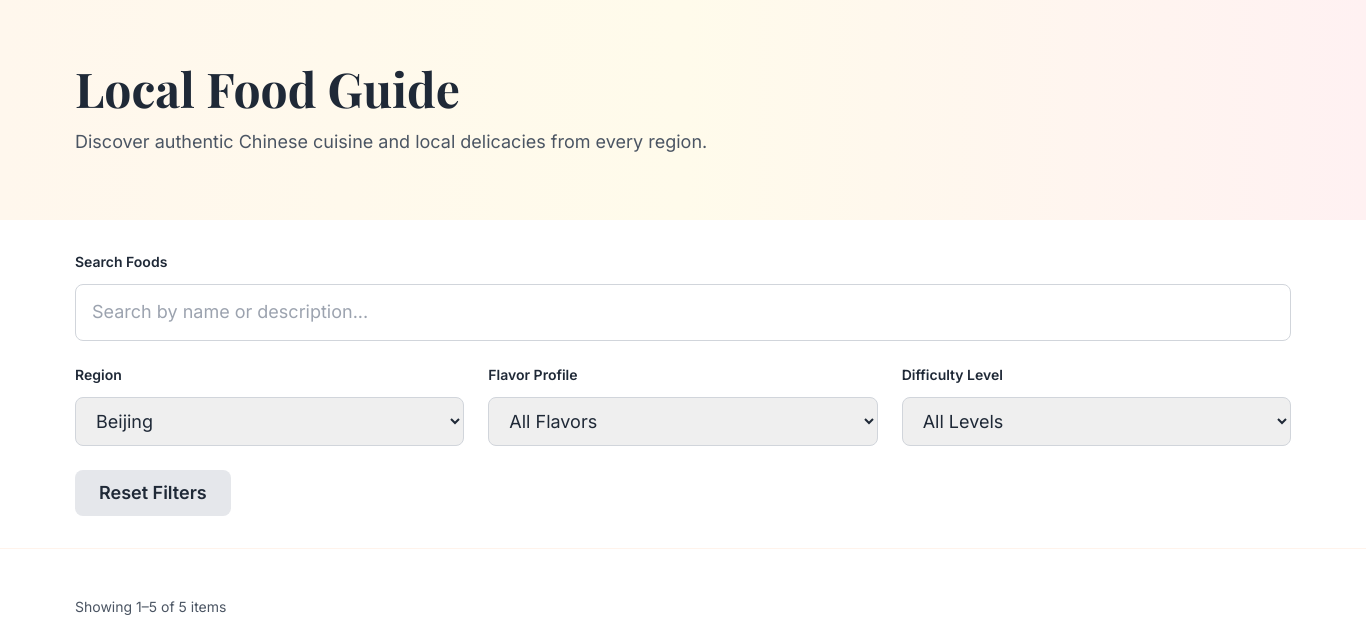
Scenario: LocalFoodGuide Component › 32: search with no results shows empty state
The width and height of the screenshot is (1366, 629).
Step 1. Type "xyznonexistent123" into the field with test id "search-input" → (683, 312), box [75,284,1291,341]
(page scrolled)
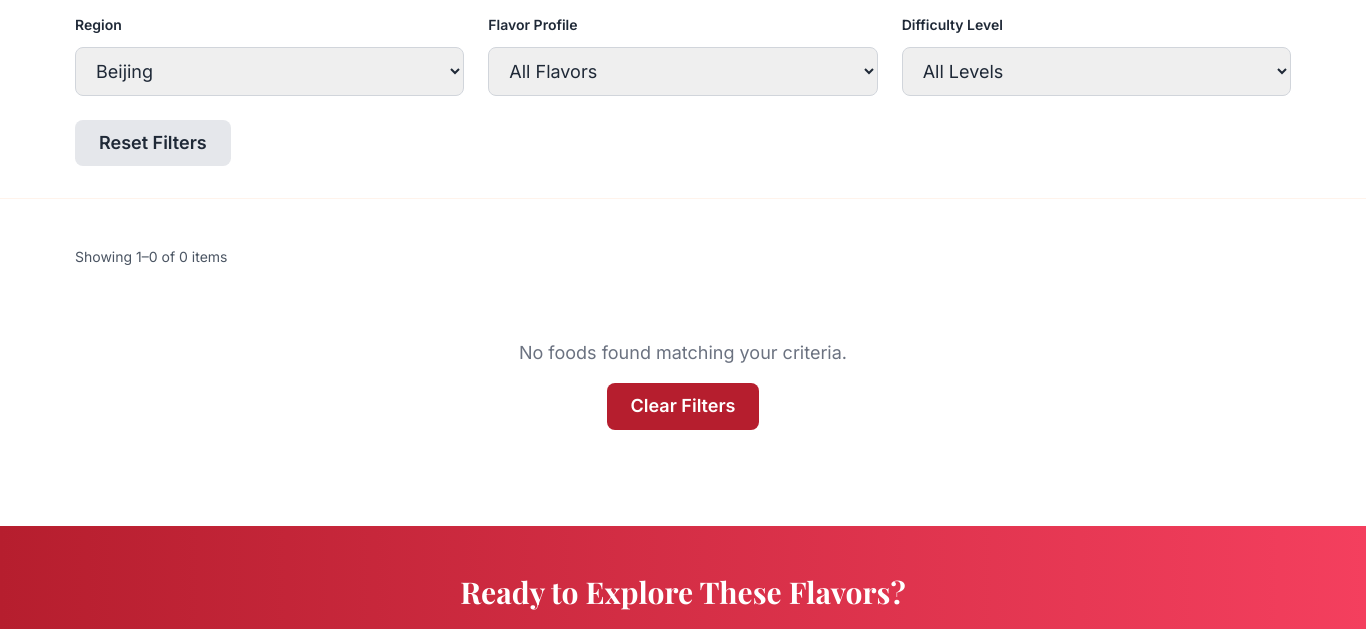
Expected: the message "No foods found matching your criteria. Clear Filters" is shown, [519,342,847,430]
